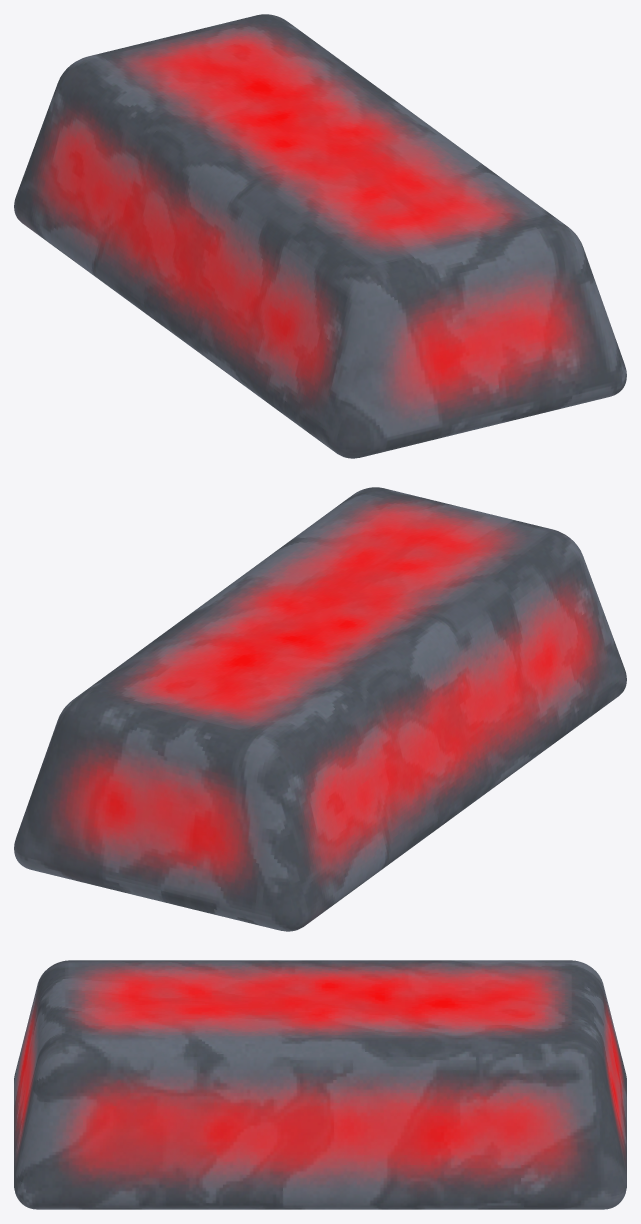
The model's file is stt-ingot-f.glb.
3 renders of one model, top to bottom at view 1: azimuth 30°, elevation 25°; view 2: azimuth 150°, elevation 25°; view 3: azimuth 270°, elevation 25°, orthographic. The views are drawn at different scales.
Parts seen in each view (by area): view 1: Ingot; view 2: Ingot; view 3: Ingot.
Part boxes in pixels (box(x1,y1,x2,y2)): Ingot: box(14, 14, 626, 458); Ingot: box(14, 487, 626, 931); Ingot: box(14, 960, 626, 1209).
Size of the model in its own units: 0.9762 by 0.5385 by 1.97.
Materials: 1 (1 with a texture image).
